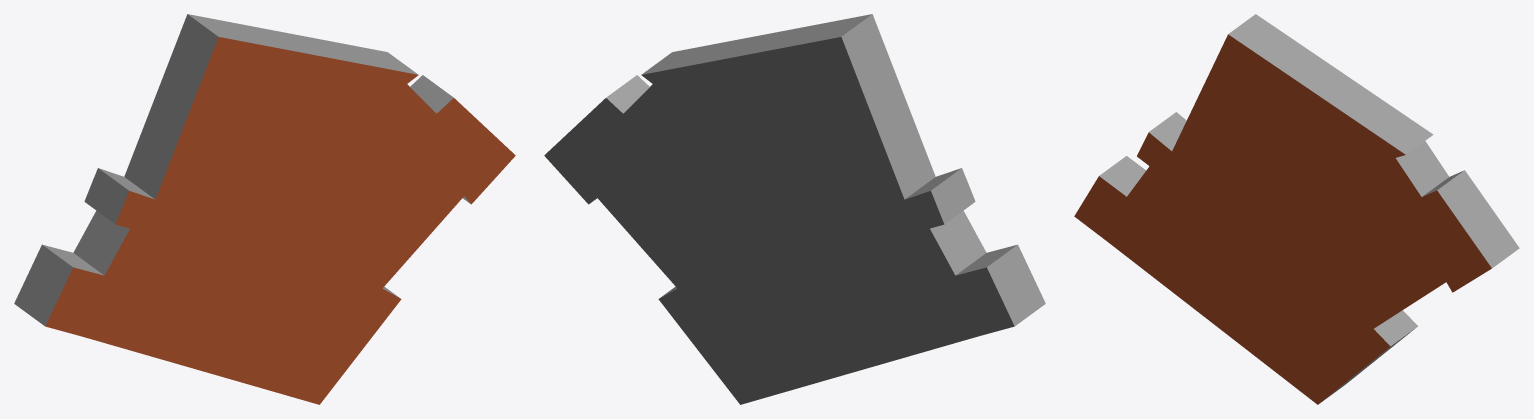
The model's file is construction_6176_assumed_A_Casa_h6m.obj.
The picture shows the model from 3 angles, left to right: view 1: azimuth 30°, elevation 25°; view 2: azimuth 150°, elevation 25°; view 3: azimuth 330°, elevation 25°; orthographic projection. The views are drawn at different scales.
Parts seen in each view (by area): view 1: construction_6176_assumed_A_Casa; view 2: construction_6176_assumed_A_Casa; view 3: construction_6176_assumed_A_Casa.
Part boxes in pixels (<box>): construction_6176_assumed_A_Casa: <box>14,14,515,404</box>; construction_6176_assumed_A_Casa: <box>544,14,1045,404</box>; construction_6176_assumed_A_Casa: <box>1074,14,1519,404</box>.
Bounding box in the file's own units: 52.29 × 41.71 × 6.
